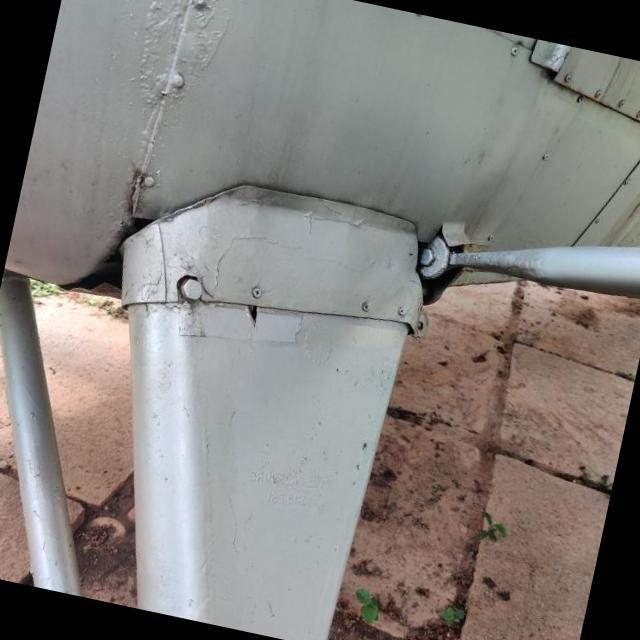Rupture: (226, 290, 276, 342)
